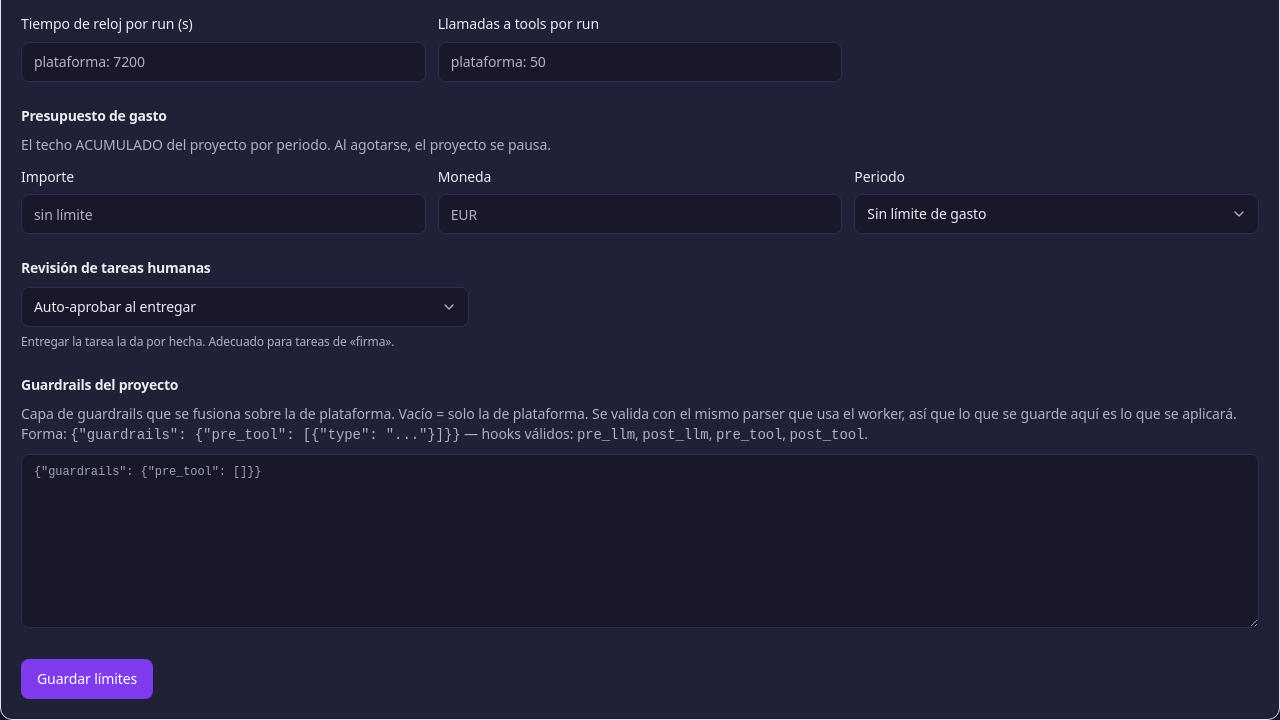
it: ProjectGovernanceSection › surfaces a rejected save instead of pretending it worked
(page scrolled)
Click the button with test id "governance-save": click(87, 679) [21,659,153,699]
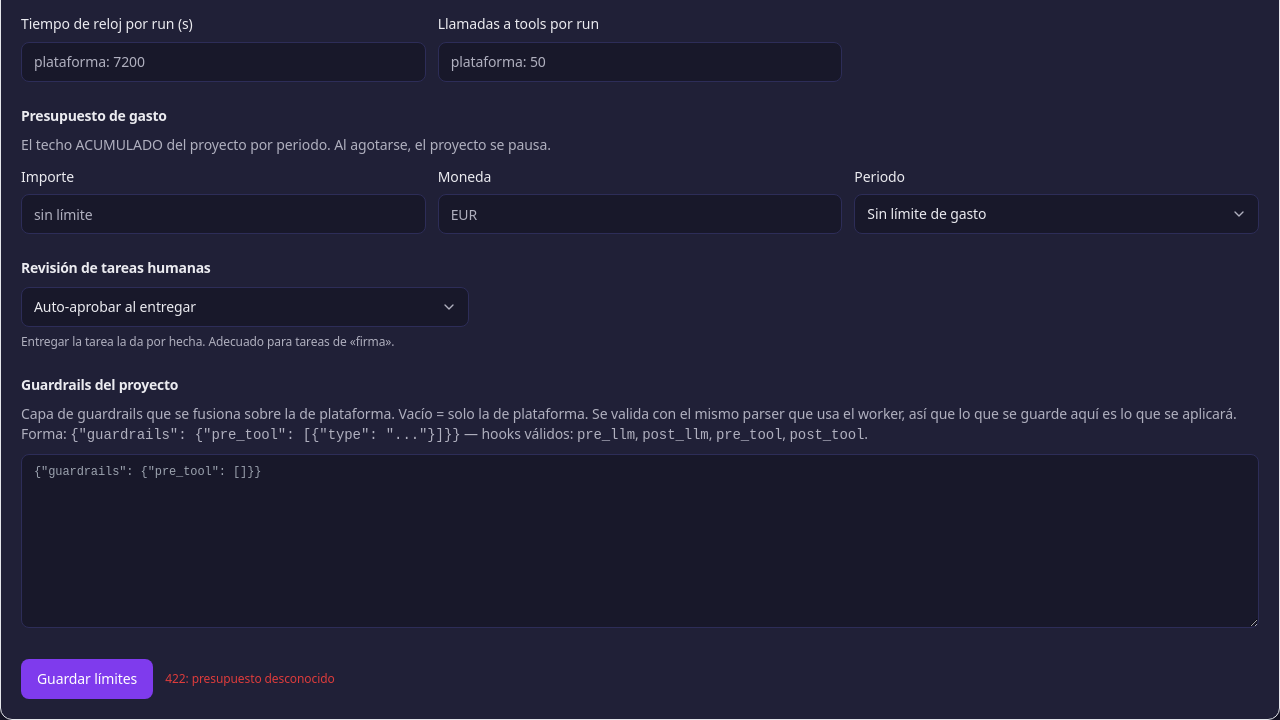
Result: the text with test id "governance-error" shows "422" at [165,670,335,687]
